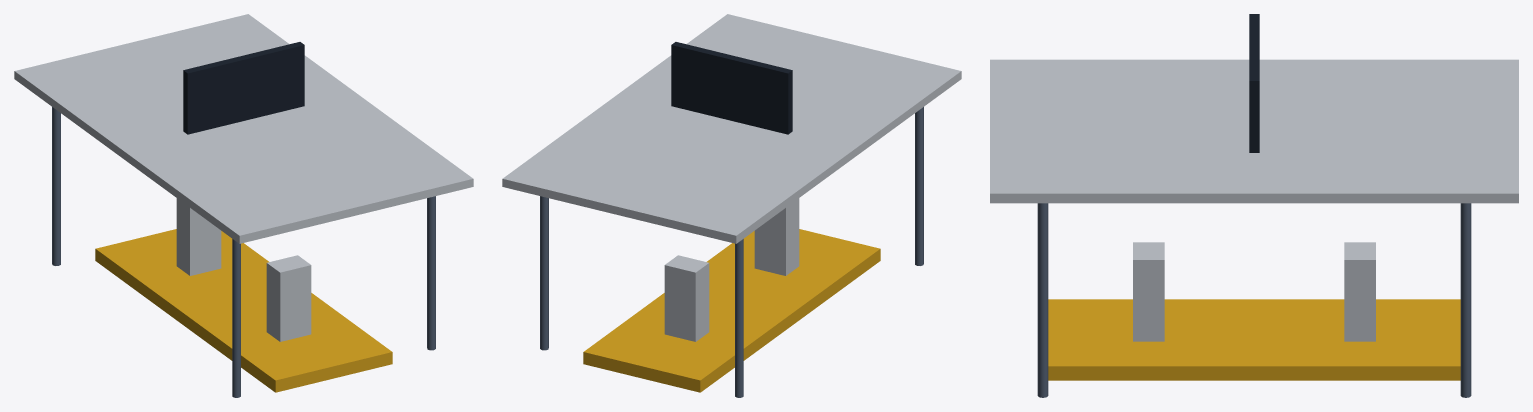
File: yard-fuel-island-body-authored-vertex-colour-tripo-finish.glb
The picture shows the model from 3 angles, left to right: view 1: azimuth 30°, elevation 25°; view 2: azimuth 150°, elevation 25°; view 3: azimuth 270°, elevation 25°; orthographic projection. The views are drawn at different scales.
Visible parts, largest first — view 1: Authored shadows false:false; view 2: Authored shadows false:false; view 3: Authored shadows false:false.
Part boxes in pixels (box(x1,y1,x2,y2)): Authored shadows false:false: box(14, 14, 473, 397); Authored shadows false:false: box(502, 14, 961, 397); Authored shadows false:false: box(990, 14, 1518, 397).
Bounding box in the file's own units: 0.6 × 0.625 × 1.
